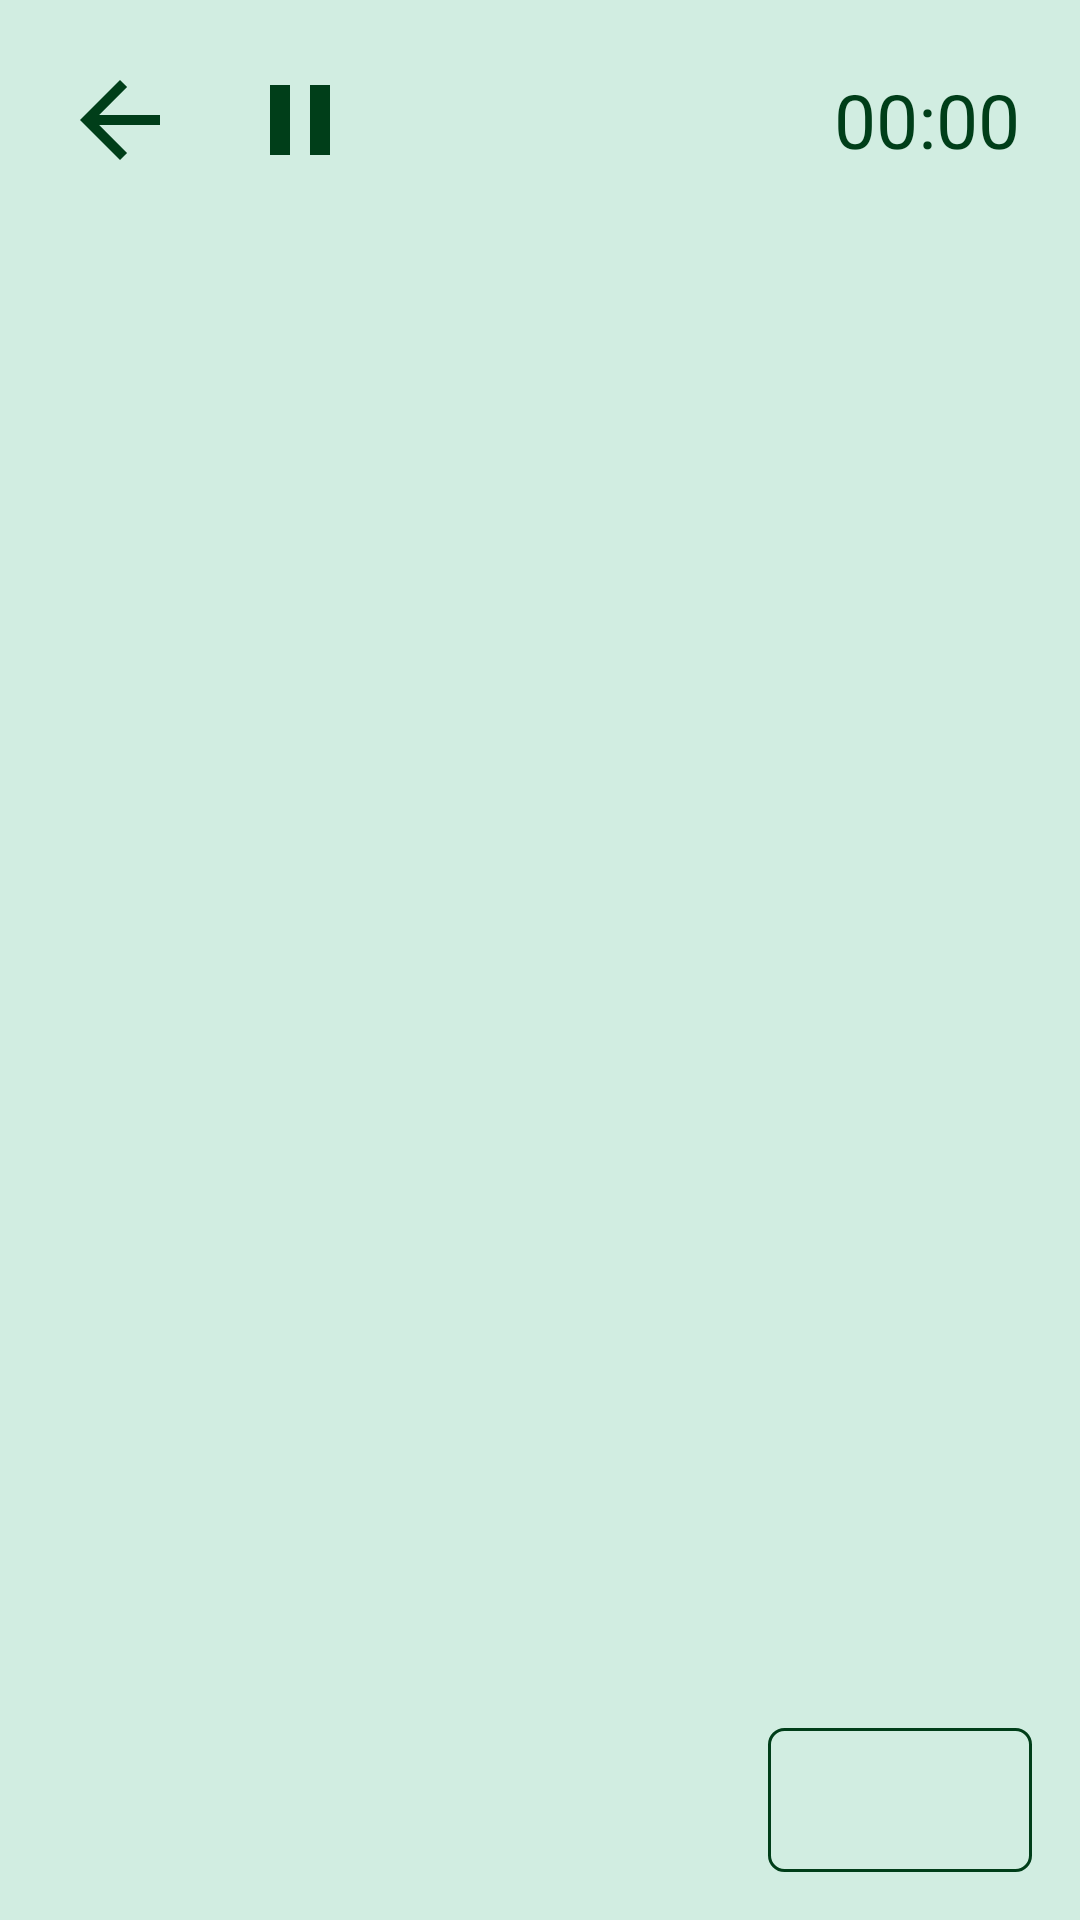

Icon bounding boxes for this 1080px x 1920px phone screenshot, format (x1, y1, x2, y2):
back: (80, 80, 160, 160)
pause: (270, 85, 330, 155)
